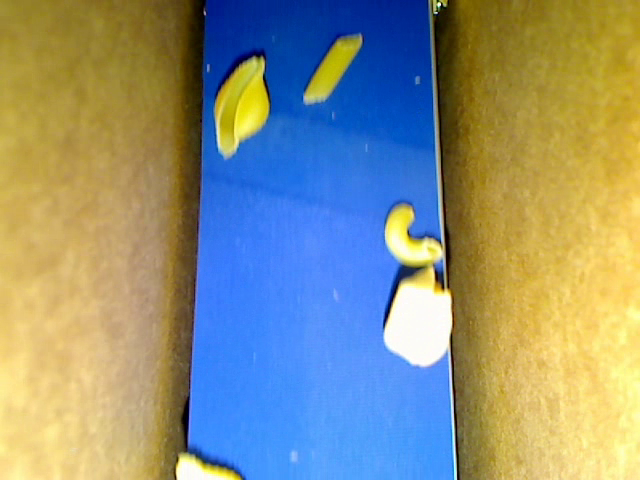elbow: (384, 201, 443, 269)
penne: (302, 34, 362, 102)
shell: (213, 54, 268, 160)
